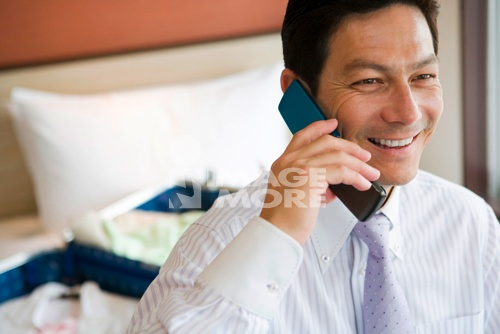phone: (265, 83, 382, 218)
talk: (253, 44, 443, 230)
